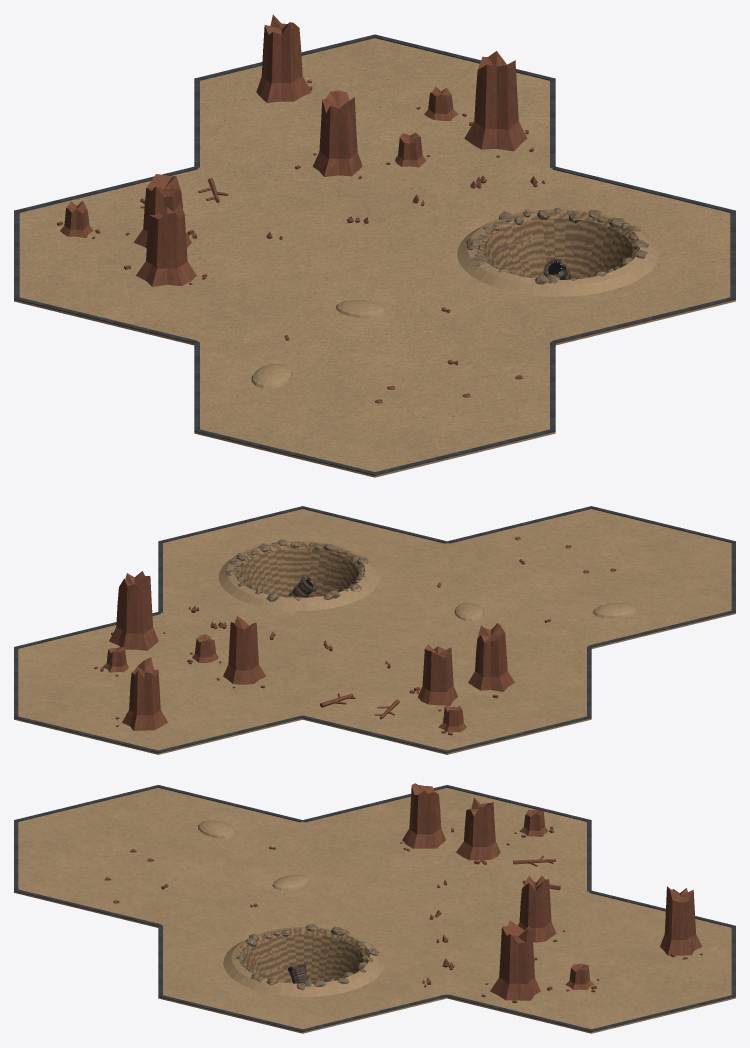
The model's file is WasteHex_Diamond.glb.
3 views of the same model, one above another, from view 1: azimuth 30°, elevation 25°; view 2: azimuth 150°, elevation 25°; view 3: azimuth 270°, elevation 25° (orthographic). The views are drawn at different scales.
Parts seen in each view (by area): view 1: WasteHex_Diamond_Ground, WasteHex_Diamond_Prop_Petrified, WasteHex_Diamond_GroundTrim, WasteHex_Diamond_Prop_PitWall, WasteHex_Diamond_Prop_PitRim, WasteHex_Diamond_Prop_Rock, WasteHex_Diamond_Prop_Drift; view 2: WasteHex_Diamond_Ground, WasteHex_Diamond_Prop_Petrified, WasteHex_Diamond_GroundTrim, WasteHex_Diamond_Prop_PitWall, WasteHex_Diamond_Prop_PitRim, WasteHex_Diamond_Prop_Rock, WasteHex_Diamond_Prop_Drift; view 3: WasteHex_Diamond_Ground, WasteHex_Diamond_Prop_Petrified, WasteHex_Diamond_GroundTrim, WasteHex_Diamond_Prop_PitWall, WasteHex_Diamond_Prop_PitRim, WasteHex_Diamond_Prop_Rock, WasteHex_Diamond_Prop_Drift.
Boxes of the visible parts, x1,y1,x2,y2 form: WasteHex_Diamond_Ground: [14, 38, 735, 477]; WasteHex_Diamond_Prop_Petrified: [57, 14, 533, 286]; WasteHex_Diamond_GroundTrim: [14, 34, 735, 475]; WasteHex_Diamond_Prop_PitWall: [476, 210, 639, 279]; WasteHex_Diamond_Prop_PitRim: [457, 209, 658, 296]; WasteHex_Diamond_Prop_Rock: [466, 208, 649, 284]; WasteHex_Diamond_Prop_Drift: [251, 299, 386, 388]; WasteHex_Diamond_Ground: [14, 509, 735, 754]; WasteHex_Diamond_Prop_Petrified: [94, 571, 515, 735]; WasteHex_Diamond_GroundTrim: [14, 506, 735, 753]; WasteHex_Diamond_Prop_PitWall: [233, 542, 365, 596]; WasteHex_Diamond_Prop_PitRim: [218, 541, 379, 611]; WasteHex_Diamond_Prop_Rock: [225, 539, 368, 601]; WasteHex_Diamond_Prop_Drift: [454, 602, 637, 621]; WasteHex_Diamond_Ground: [14, 788, 735, 1033]; WasteHex_Diamond_Prop_Petrified: [400, 783, 702, 1003]; WasteHex_Diamond_GroundTrim: [14, 785, 735, 1032]; WasteHex_Diamond_Prop_PitWall: [238, 928, 369, 982]; WasteHex_Diamond_Prop_PitRim: [223, 927, 384, 997]; WasteHex_Diamond_Prop_Rock: [236, 923, 379, 990]; WasteHex_Diamond_Prop_Drift: [198, 820, 310, 890].
Bounding box in the file's own units: 21 × 4.46 × 25.98.
Materials: 11 (11 with a texture image).
